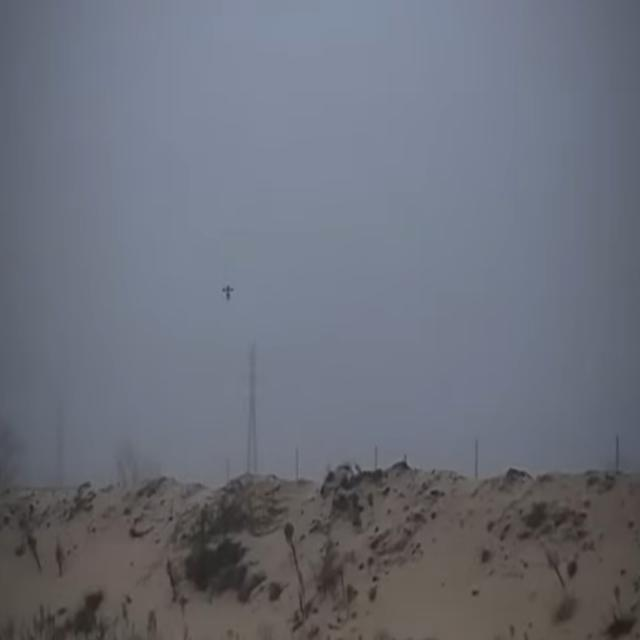drone: (220, 282, 236, 304)
